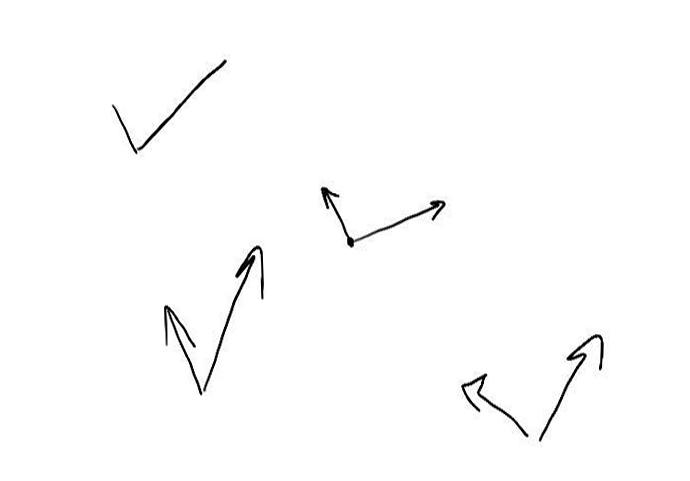arrow: (202, 245, 265, 386), (541, 333, 607, 437), (460, 371, 532, 435), (159, 303, 203, 393), (356, 199, 447, 238), (318, 183, 352, 236)
arrownohead: (137, 58, 230, 152), (111, 105, 136, 151)
